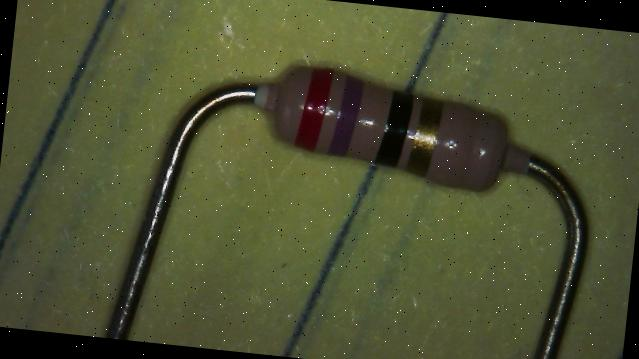black: (376, 90, 412, 168)
gold: (408, 98, 441, 175)
red: (296, 66, 330, 152)
resistor: (247, 36, 540, 217)
violet: (328, 77, 362, 157)
